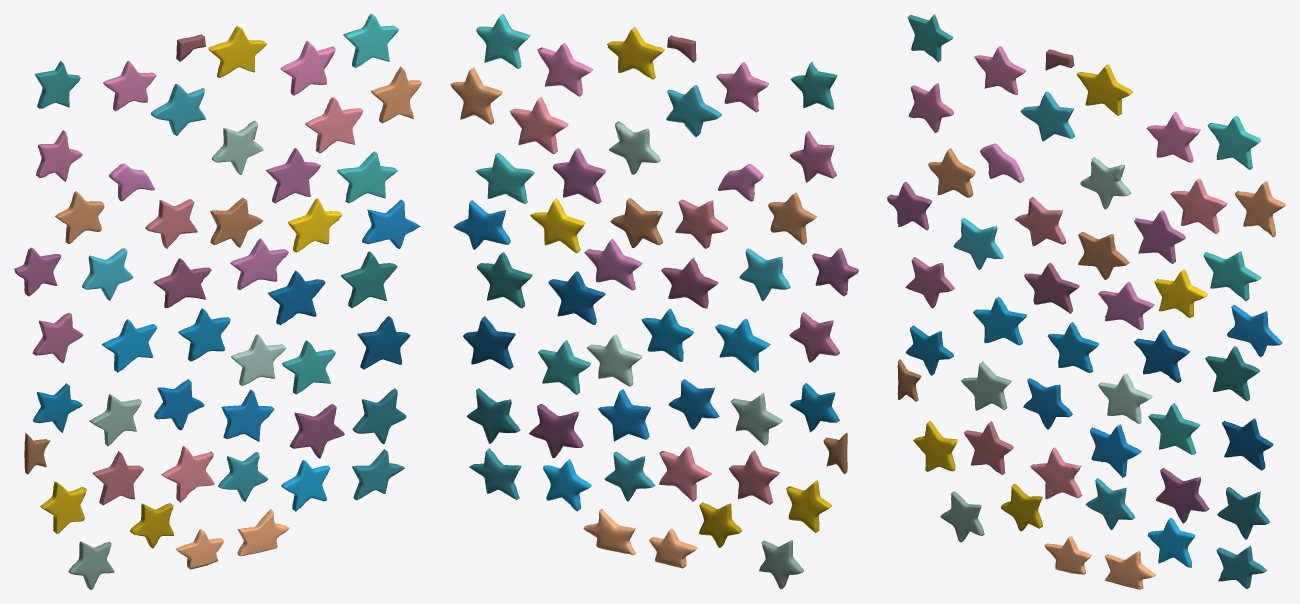
Rendered from 星棚顶 (1).fbx.
The picture shows the model from 3 angles, left to right: view 1: azimuth 30°, elevation 25°; view 2: azimuth 150°, elevation 25°; view 3: azimuth 330°, elevation 25°; orthographic projection. The views are drawn at different scales.
Parts seen in each view (by area): view 1: root.0, root.1, root.4, root.5, root.2, root.6, root.10, root.14, root.3, root.26, root.7, root.20 (+34 smaller); view 2: root.0, root.1, root.5, root.3, root.4, root.2, root.6, root.14, root.10, root.7, root.26, root.20 (+34 smaller); view 3: root.0, root.1, root.5, root.2, root.4, root.6, root.10, root.7, root.3, root.26, root.14, root.25 (+34 smaller).
Boxes of the visible parts, x1,y1,x2,y2 form: root.0: [176, 509, 289, 569]; root.1: [305, 97, 362, 153]; root.4: [268, 270, 325, 325]; root.5: [341, 251, 397, 308]; root.2: [337, 151, 397, 203]; root.6: [289, 404, 344, 458]; root.10: [343, 14, 398, 67]; root.14: [280, 41, 335, 95]; root.3: [266, 148, 320, 203]; root.26: [208, 25, 266, 77]; root.7: [357, 316, 410, 369]; root.20: [230, 238, 288, 289]; root.0: [583, 509, 697, 568]; root.1: [510, 97, 568, 154]; root.5: [477, 252, 532, 308]; root.3: [552, 148, 605, 203]; root.4: [548, 271, 605, 324]; root.2: [475, 152, 534, 203]; root.6: [529, 404, 583, 458]; root.14: [537, 43, 592, 96]; root.10: [476, 14, 530, 68]; root.7: [463, 316, 515, 369]; root.26: [607, 27, 664, 79]; root.20: [584, 239, 642, 290]; root.0: [1044, 536, 1155, 589]; root.1: [1170, 178, 1227, 233]; root.5: [1205, 346, 1259, 401]; root.2: [1203, 251, 1261, 301]; root.4: [1134, 330, 1189, 382]; root.6: [1156, 468, 1209, 523]; root.10: [1207, 116, 1260, 169]; root.7: [1222, 418, 1273, 470]; root.3: [1134, 210, 1185, 263]; root.26: [1076, 64, 1132, 115]; root.14: [1146, 112, 1200, 162]; root.25: [973, 297, 1026, 345].
Size of the model in its own units: 143 by 182 by 3.26.
